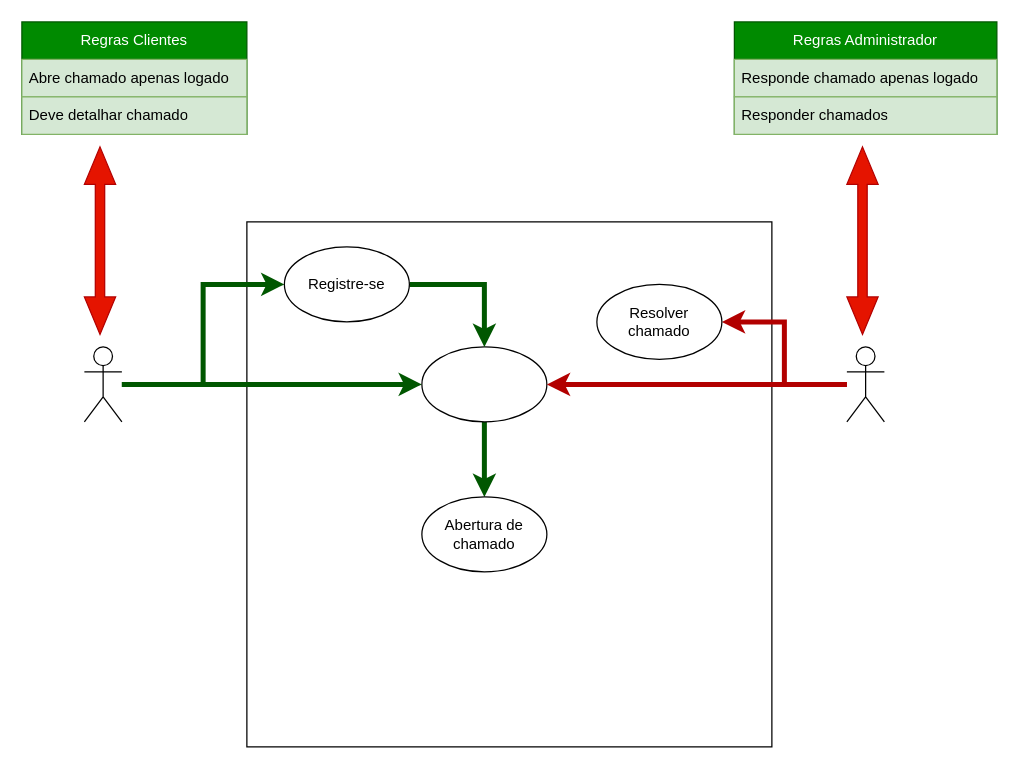
This 1019x769 diagram has some shape labels left out. Here are the shapes that lost their labels. From the top down, the centre of each, then its label:
pixel 102 384: Cliente
pixel 484 384: Login
pixel 865 384: Administrador
